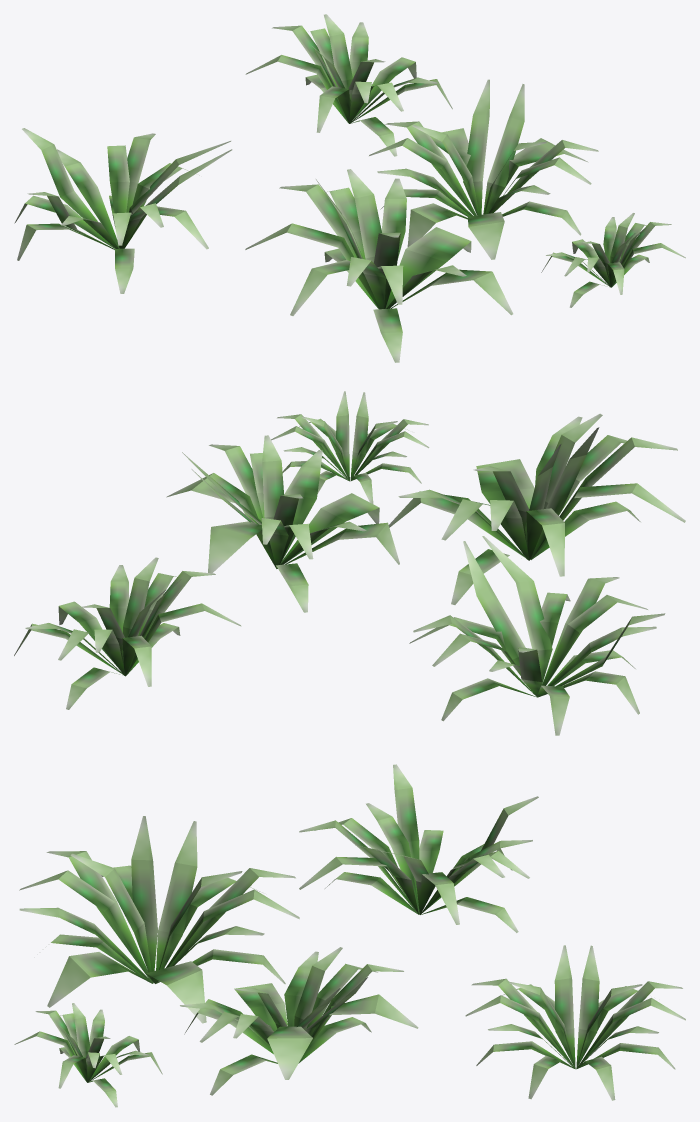
File: Poly_Weed_Plant_03_Snow.obj
The picture shows the model from 3 angles, top to bottom: view 1: azimuth 30°, elevation 25°; view 2: azimuth 150°, elevation 25°; view 3: azimuth 270°, elevation 25°; orthographic projection. The views are drawn at different scales.
Parts seen in each view (by area): view 1: Plane.010, Plane.001, Plane.004, Plane.007, Plane.013; view 2: Plane.010, Plane.004, Plane.001, Plane.007, Plane.013; view 3: Plane.010, Plane.001, Plane.004, Plane.007, Plane.013.
Part boxes in pixels (box(x1,y1,x2,y2)): Plane.010: box(245, 169, 513, 362); Plane.001: box(369, 79, 598, 259); Plane.004: box(14, 128, 232, 293); Plane.007: box(245, 14, 452, 156); Plane.013: box(541, 213, 685, 307); Plane.010: box(388, 413, 685, 604); Plane.004: box(409, 536, 665, 735); Plane.001: box(166, 435, 399, 612); Plane.007: box(14, 557, 241, 709); Plane.013: box(271, 391, 429, 503); Plane.010: box(19, 816, 299, 1023); Plane.001: box(180, 947, 418, 1095); Plane.004: box(299, 764, 538, 932); Plane.007: box(465, 945, 685, 1100); Plane.013: box(14, 1003, 162, 1107).
Size of the model in its own units: 0.9569 by 0.2381 by 1.05.
Materials: 1 (1 with a texture image).
